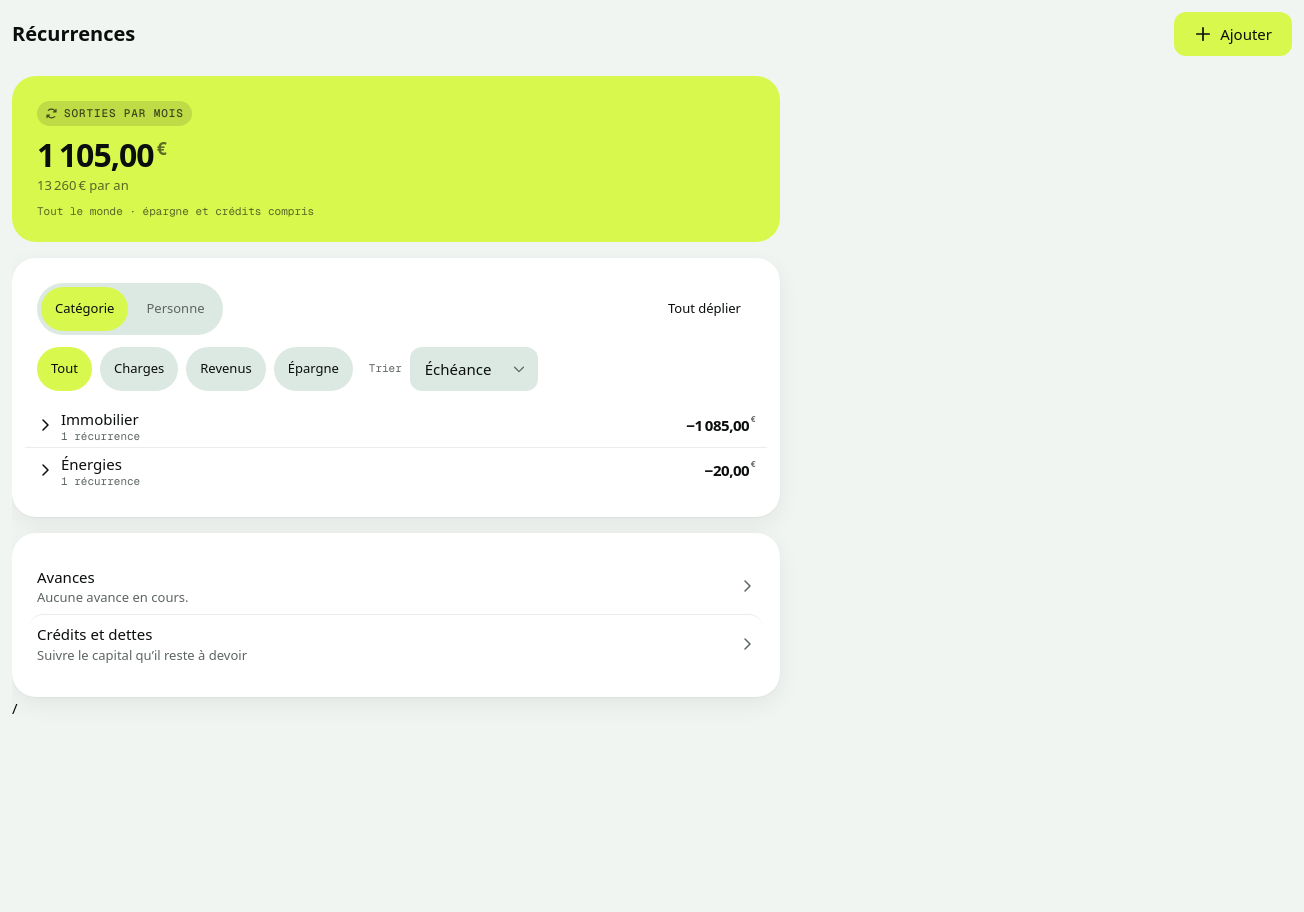
Test: RecurrencesPage › une ligne dépliée › tait l’annuel sur une mensuelle et le garde sur une annuelle
Step 1. Click the button "Tout déplier" → [704, 309], box [654,287,755,331]
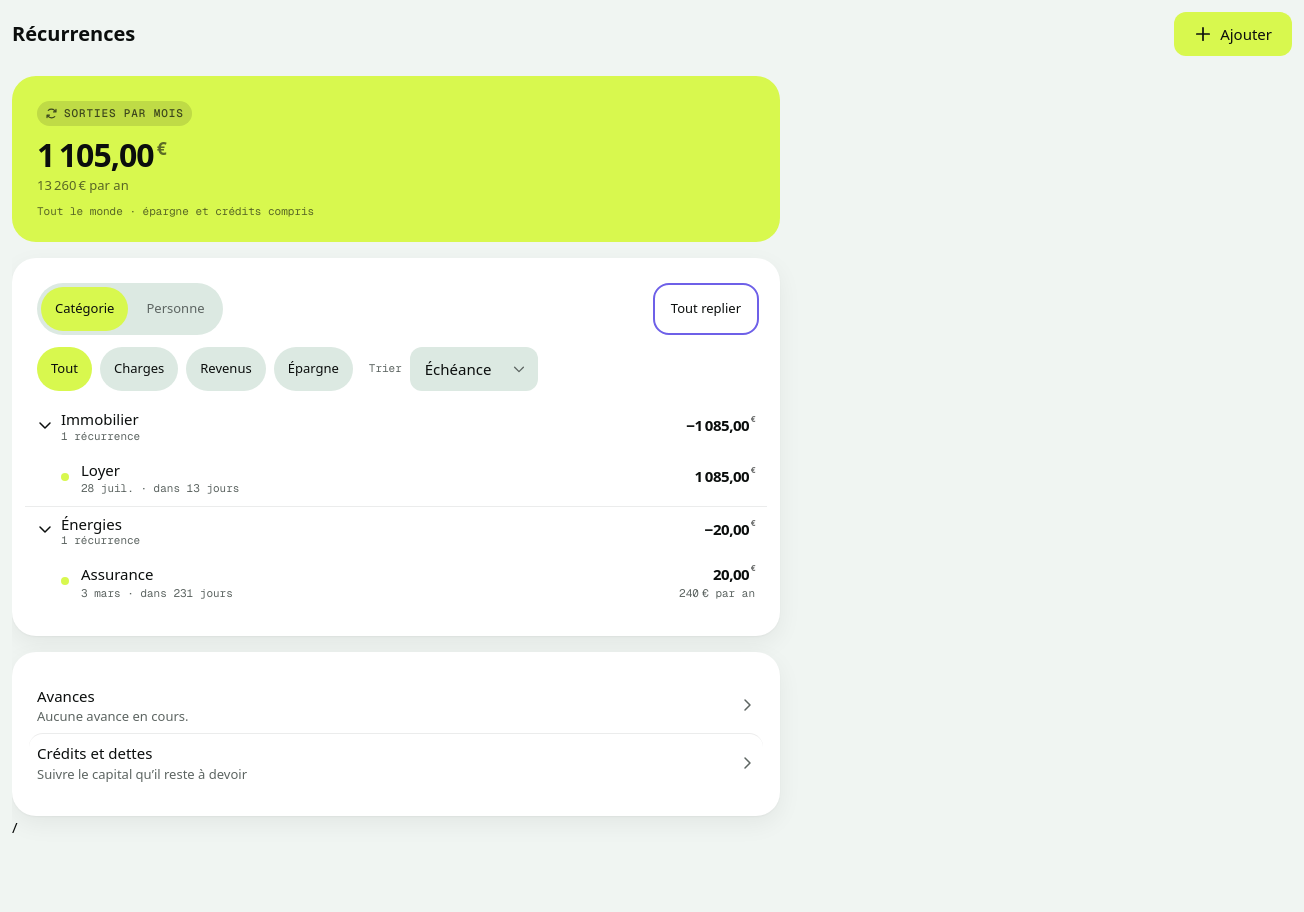
Check: the text "240 € par an" is shown, box [679,588,755,599]
